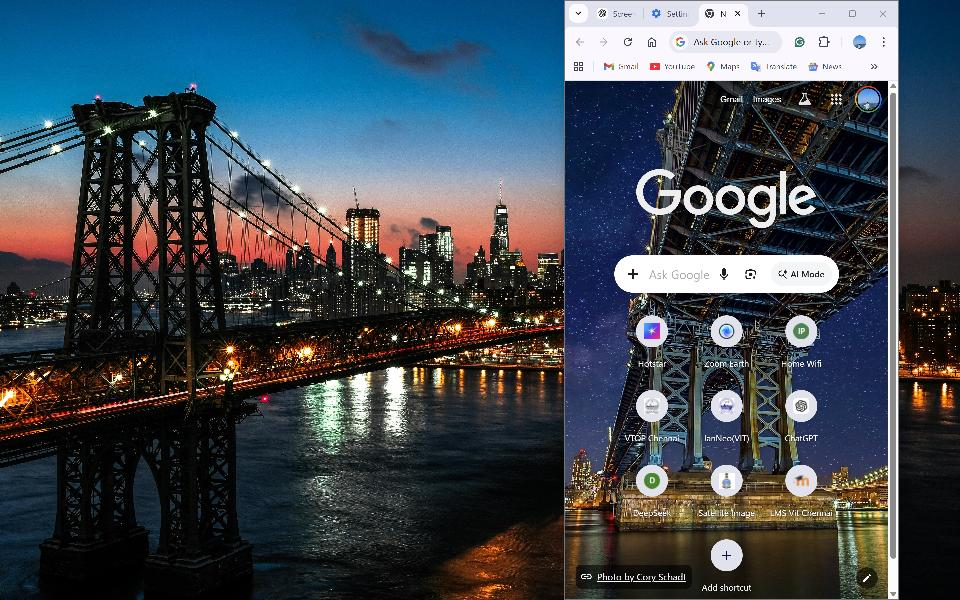close_button: (873, 6, 894, 24)
maximize_button: (842, 4, 866, 25)
minimize_button: (809, 3, 836, 25)
